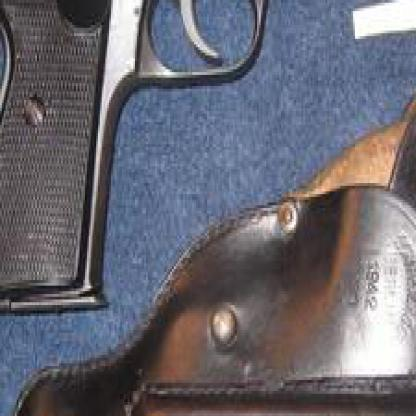gun: (0, 0, 379, 322)
